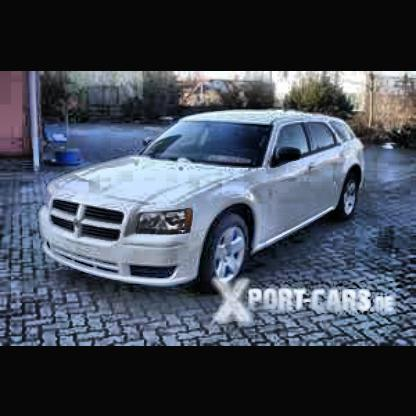Dodge Magnum Wagon 2008: (37, 107, 372, 292)
